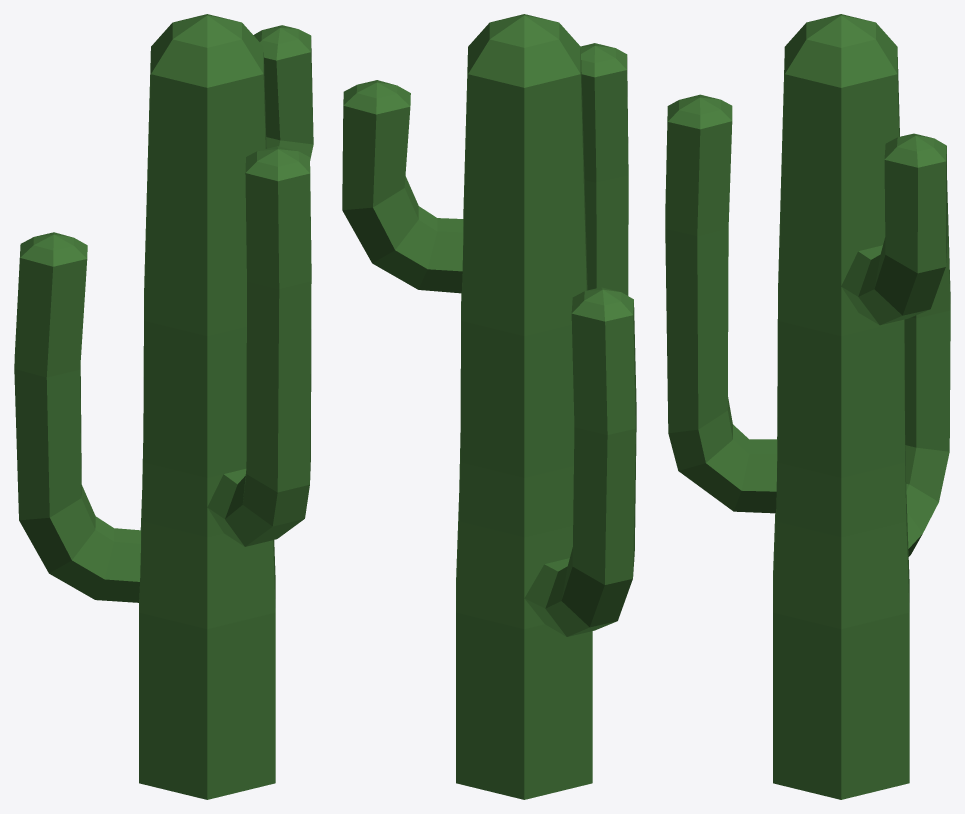
The model's file is Cactus.fbx.
The picture shows the model from 3 angles, left to right: view 1: azimuth 30°, elevation 25°; view 2: azimuth 150°, elevation 25°; view 3: azimuth 270°, elevation 25°; orthographic projection.
Visible parts, largest first — view 1: Castus_1; view 2: Castus_1; view 3: Castus_1.
Boxes of the visible parts, x1,y1,x2,y2 form: Castus_1: [14, 14, 313, 799]; Castus_1: [342, 14, 636, 799]; Castus_1: [665, 14, 950, 799].
Size of the model in its own units: 2.66 by 6.46 by 2.22.
